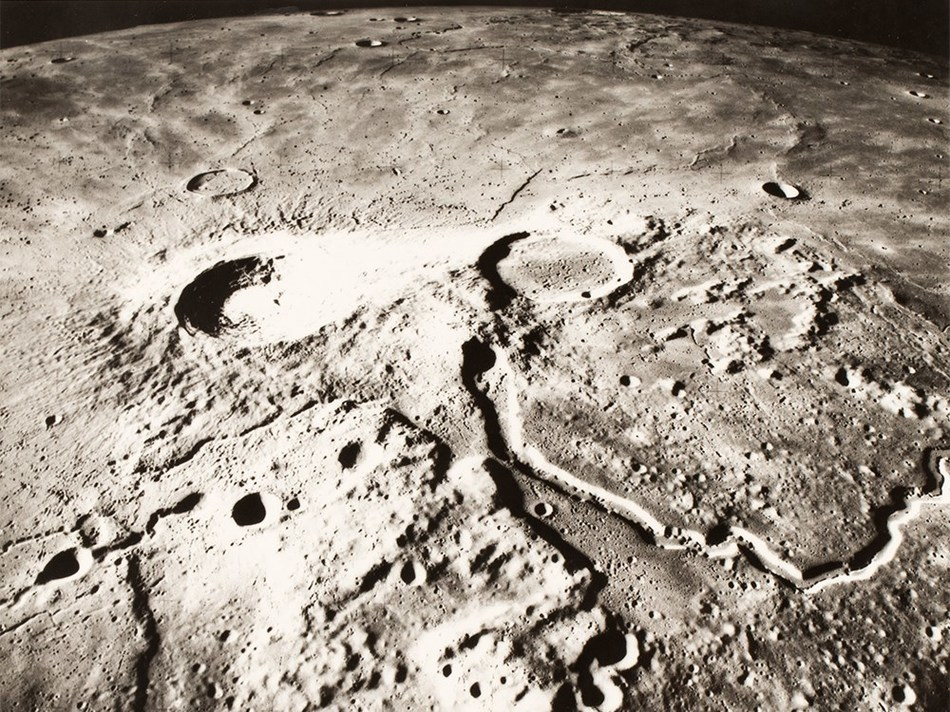crater: (453, 210, 650, 324), (161, 151, 279, 207), (413, 97, 485, 142)
